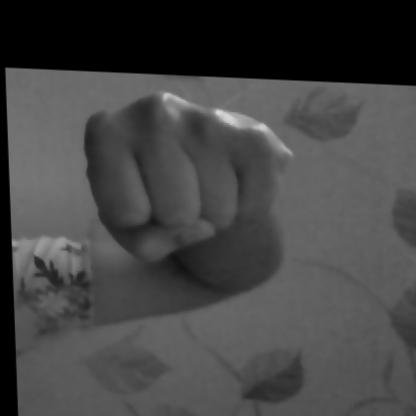fist: (42, 67, 300, 350)
